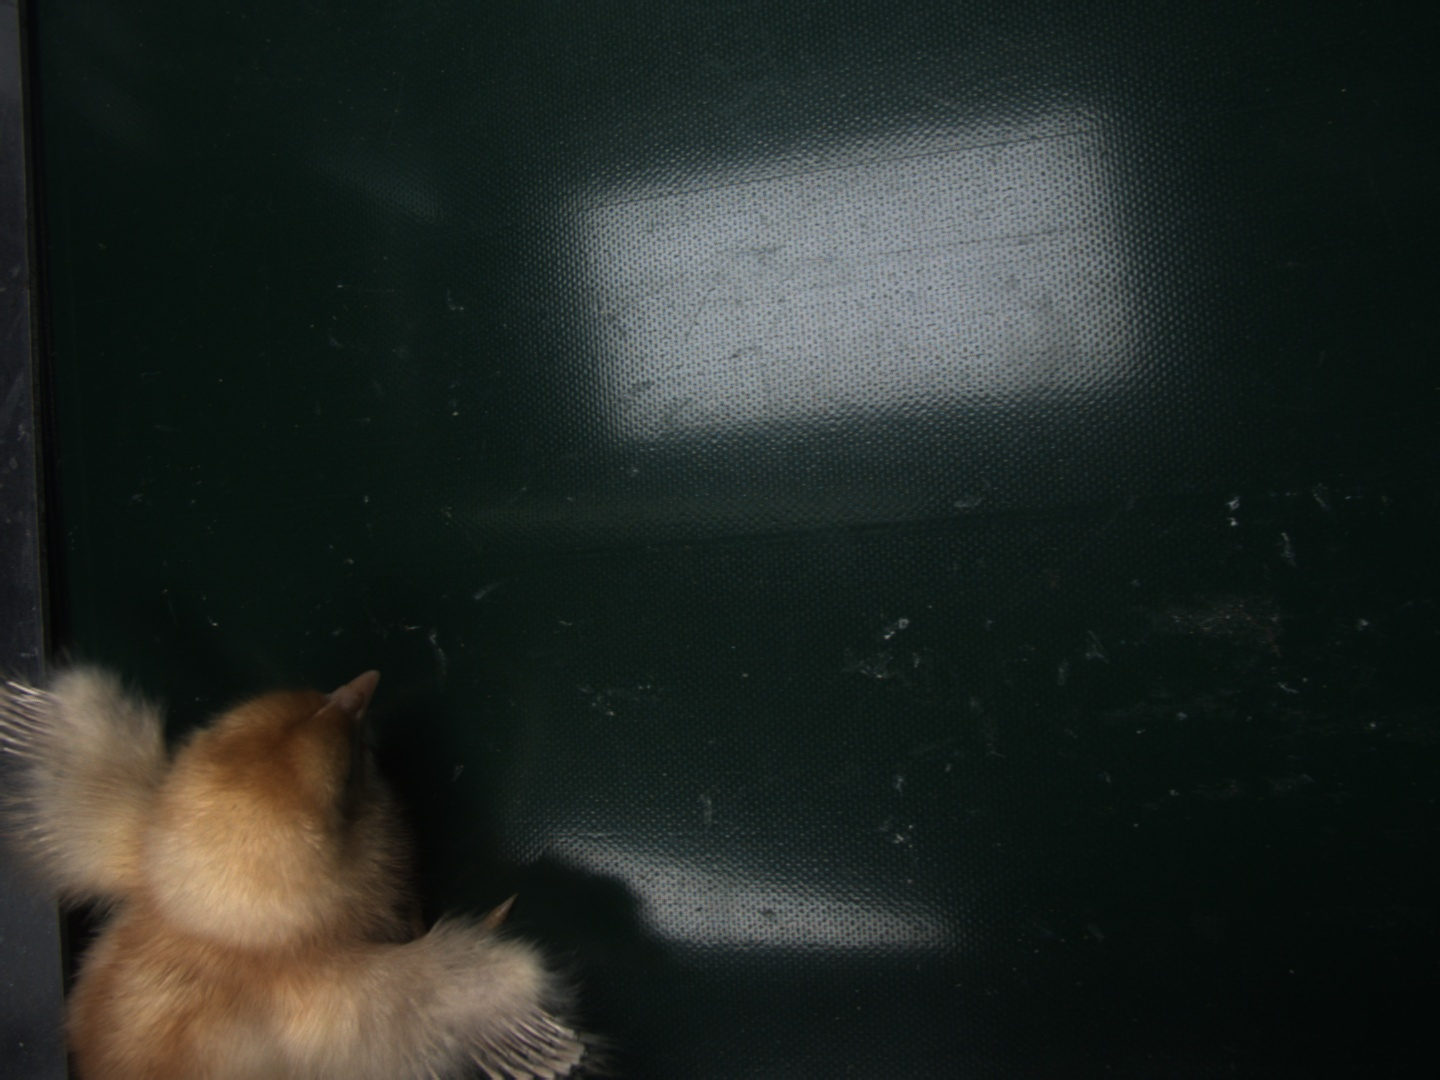female: (473, 1006, 582, 1079)
